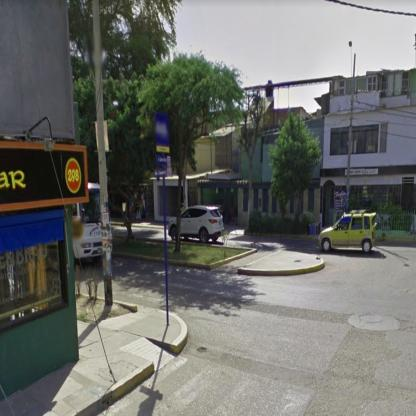Obstaculo: (198, 348, 207, 353)
Vehiculo: (319, 211, 378, 254), (169, 206, 225, 244)
